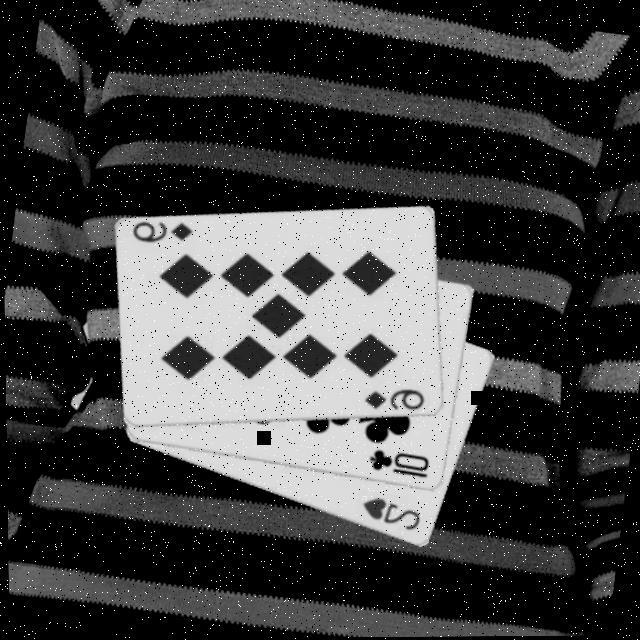10C: (365, 445, 434, 482)
2H: (357, 492, 426, 536)
9D: (360, 378, 430, 419), (128, 212, 198, 252)
